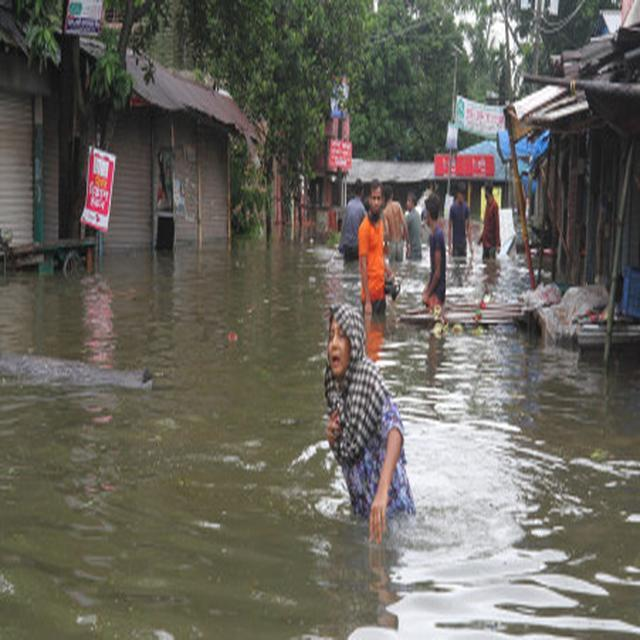Person-RiskLevel2: (352, 174, 400, 323), (420, 186, 464, 318), (472, 181, 512, 263), (336, 173, 369, 253), (404, 190, 428, 261)
Person-RiskLevel3: (316, 299, 424, 548)
